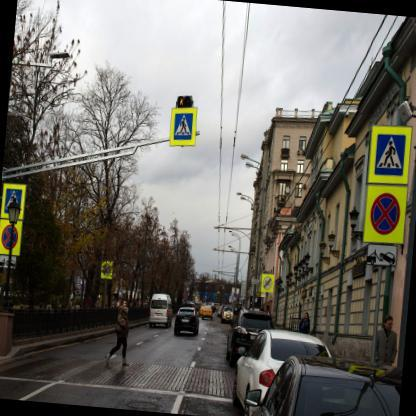obstructed_road_sign: (1, 183, 26, 220), (0, 219, 23, 256)
road_sign: (363, 184, 407, 244), (369, 126, 411, 183), (170, 108, 197, 145), (368, 245, 396, 266), (261, 273, 274, 292)
